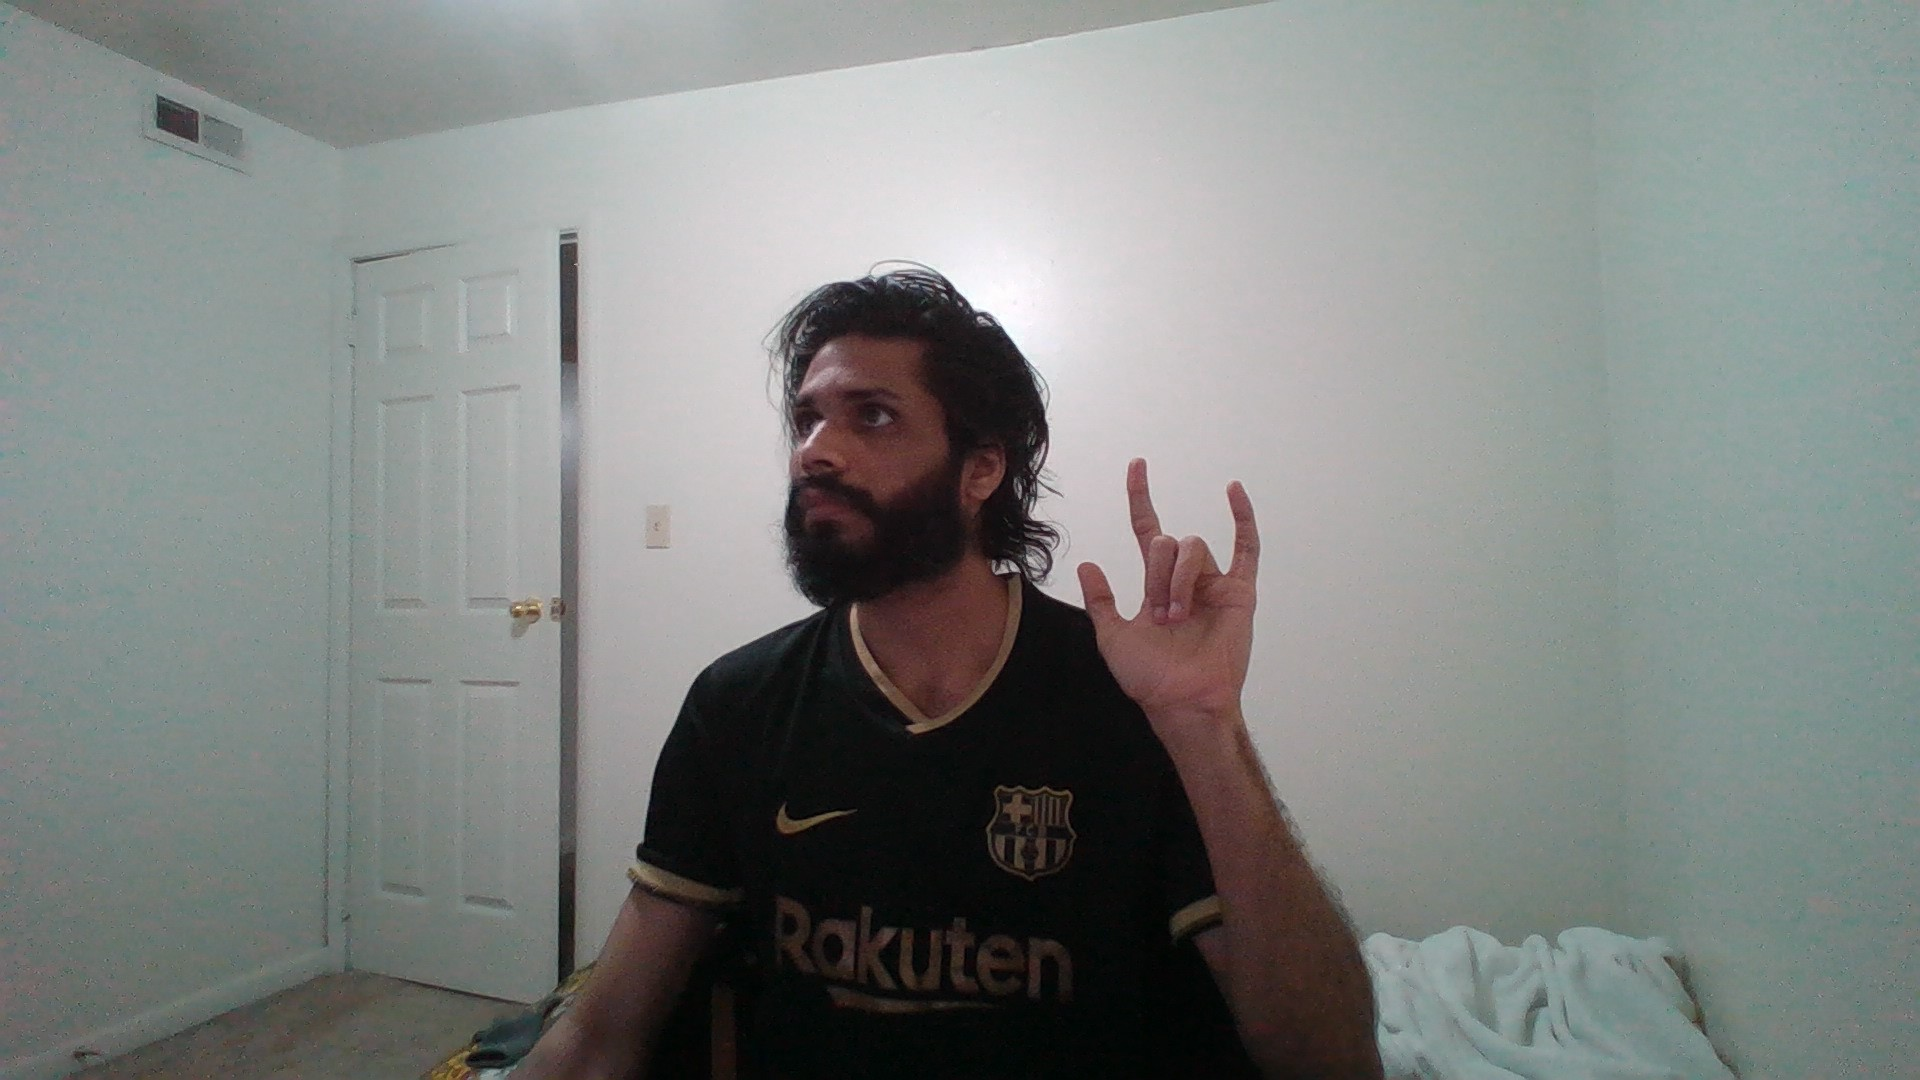IloveYou: (1052, 450, 1346, 752)
